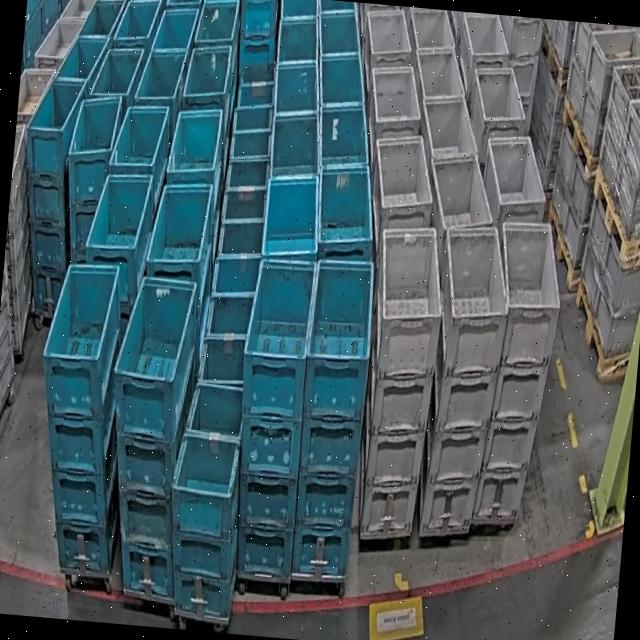4G: (416, 220, 516, 545), (468, 216, 568, 535), (356, 221, 450, 542)
B4: (22, 258, 140, 578), (94, 272, 205, 598), (223, 254, 317, 582), (285, 254, 378, 582), (10, 75, 86, 324), (58, 88, 124, 268), (252, 576, 255, 580)
B8: (159, 380, 251, 620)
